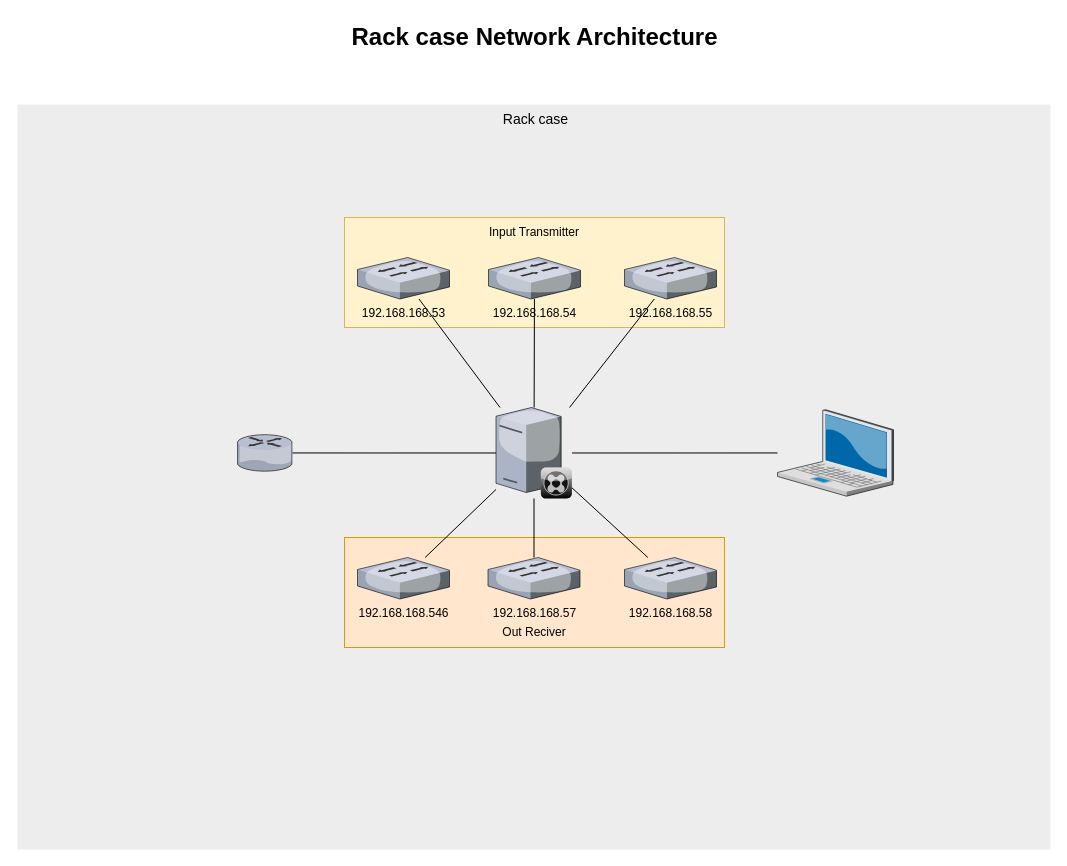
The diagram is 1067 pixels wide and 866 high, and some of its shapes have lost their labels. Each missing label, with the box of its shape:
Client: (777, 409, 893, 496)
HDMI Smart Matrix: (496, 407, 572, 498)
Router: (237, 434, 292, 471)
